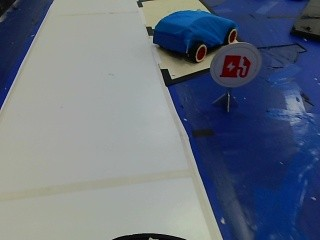battery: (213, 49, 255, 89)
car: (150, 7, 242, 60)
